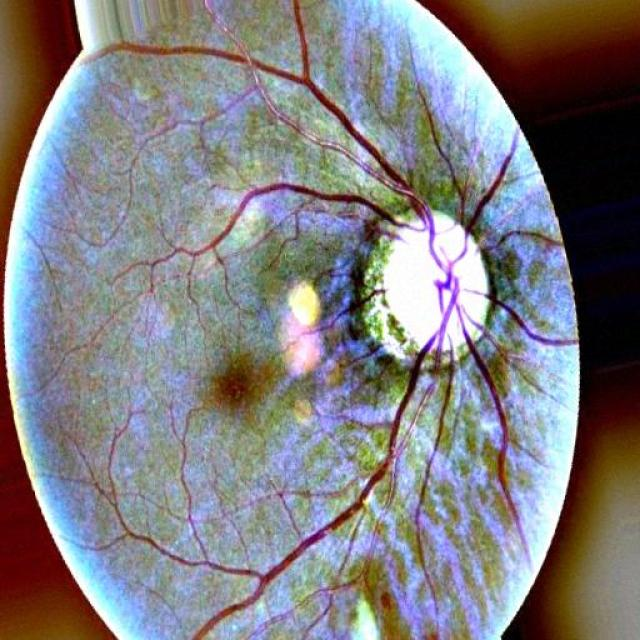Macula: (192, 345, 271, 425)
Nerves: (194, 209, 457, 629), (136, 2, 405, 186), (448, 298, 528, 535), (161, 179, 381, 258), (461, 149, 514, 253), (490, 294, 571, 346)
Optic Disk: (371, 204, 498, 356)
